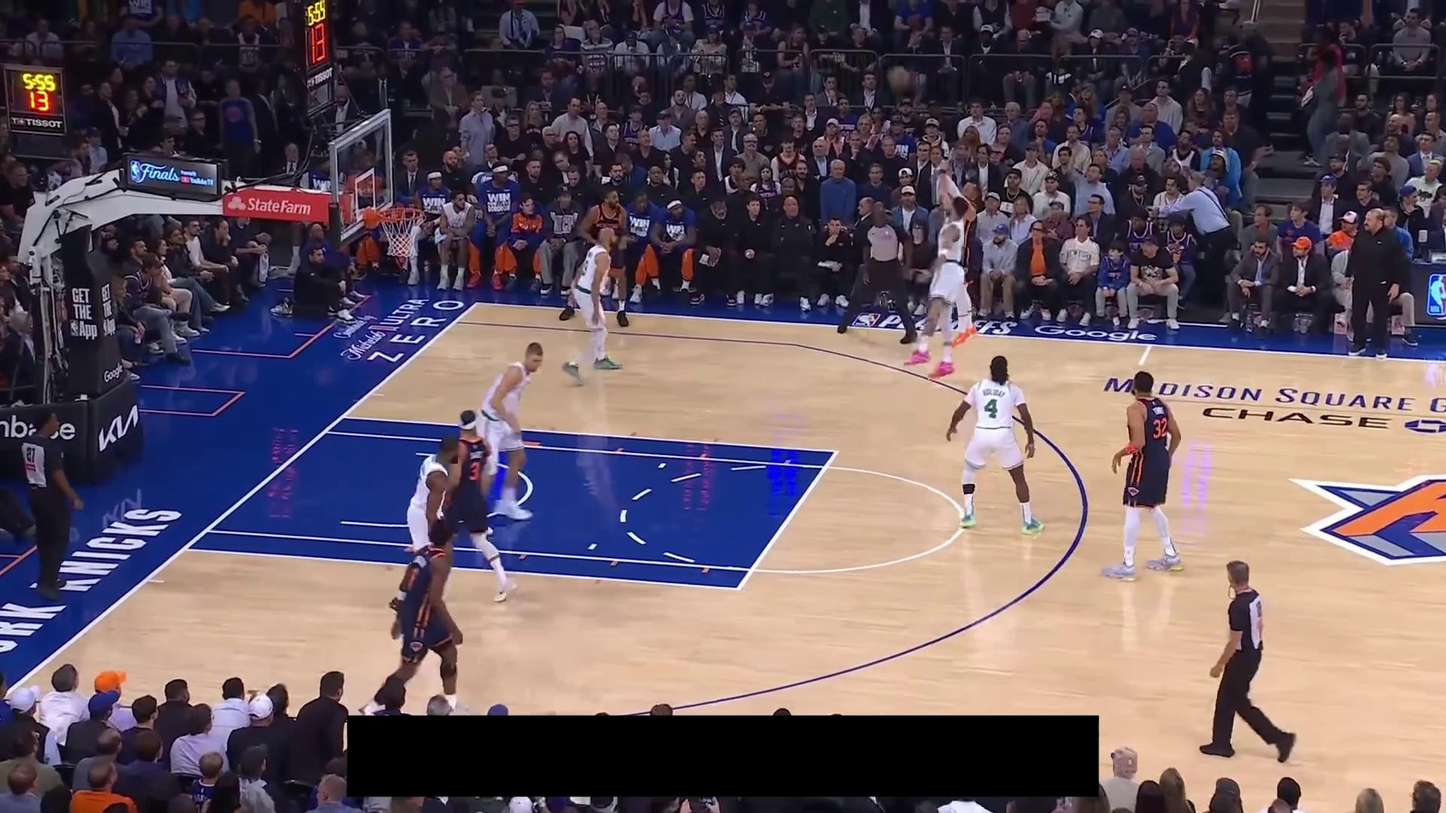ball: (887, 68, 911, 90)
number: (984, 397, 999, 419), (1152, 417, 1167, 439), (468, 460, 481, 482), (581, 258, 590, 276)
player: (358, 517, 464, 716), (945, 354, 1045, 536), (1100, 370, 1185, 582), (444, 410, 520, 603), (388, 435, 459, 613), (475, 341, 544, 520), (559, 187, 631, 329), (559, 227, 622, 385)
player-jump-shot: (939, 166, 978, 348)
player-shot-block: (904, 172, 978, 380)
referee: (1198, 559, 1298, 763), (20, 408, 84, 603), (837, 200, 918, 344)
rim: (378, 207, 425, 222)
